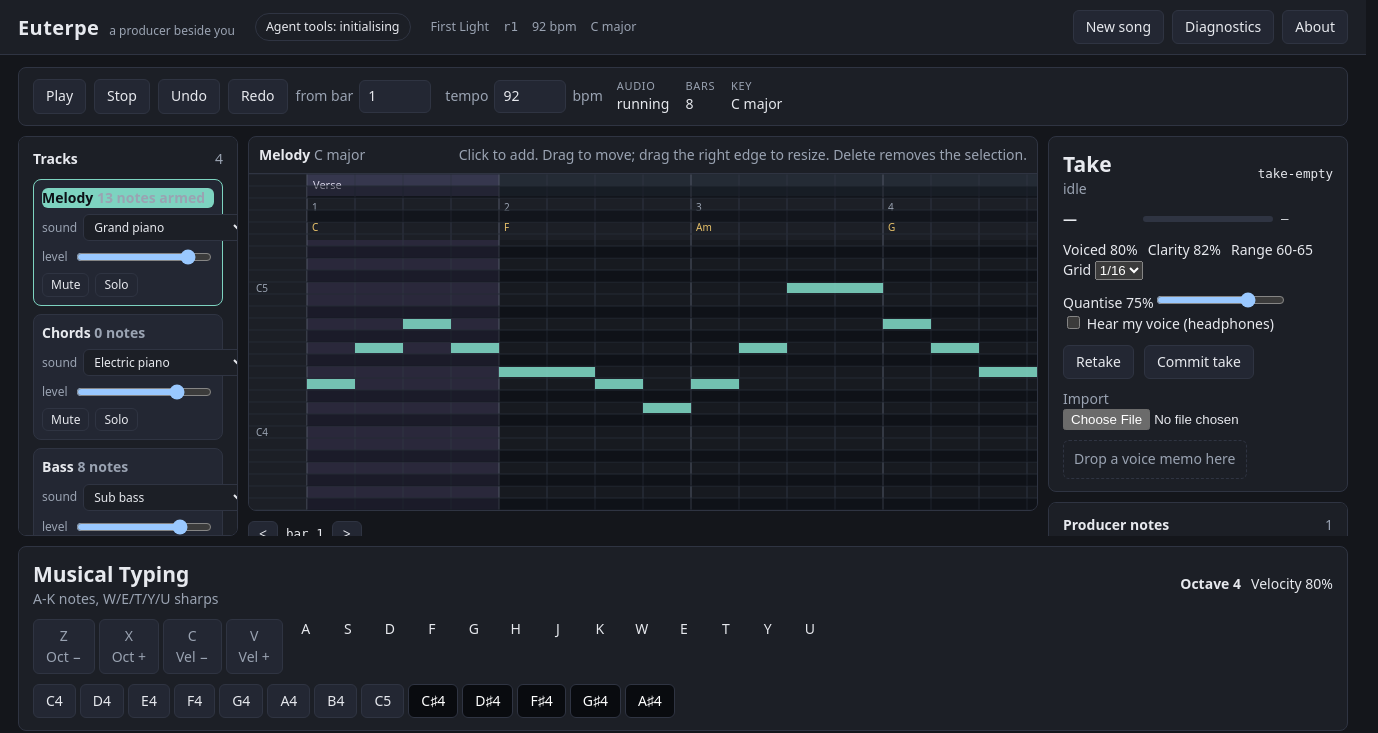
Scenario: App › keeps the take panel when a refused commit never reaches the track
(page scrolled)
Click the button "Commit take" at (1199, 362), box [1144,345,1254,379]
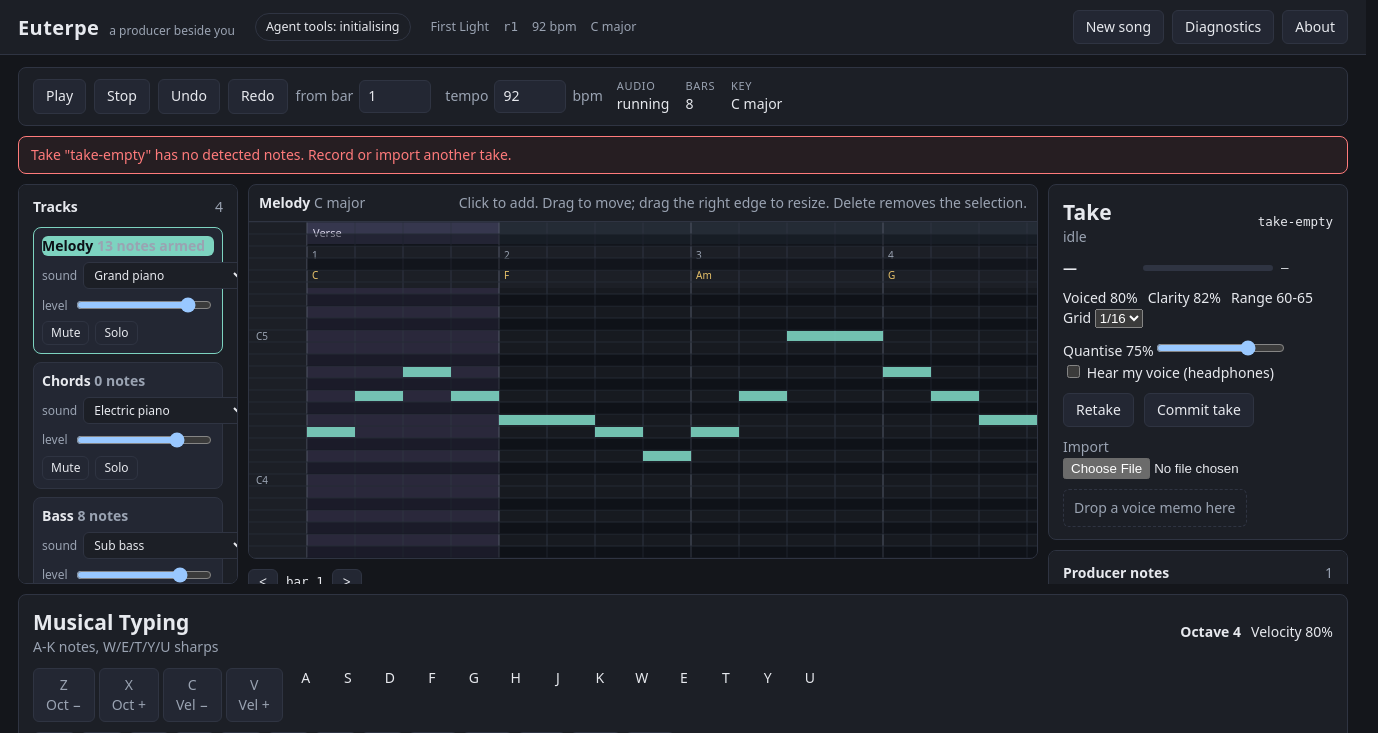
Expected: the text "take-empty" is shown, [1258,213,1333,231]
Expected: the message shows "no detected notes", [31,144,512,164]
